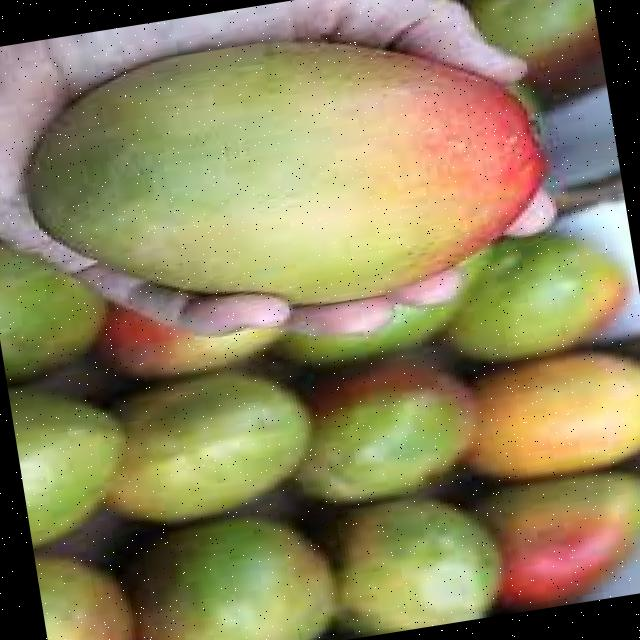mango: (22, 42, 546, 308)
